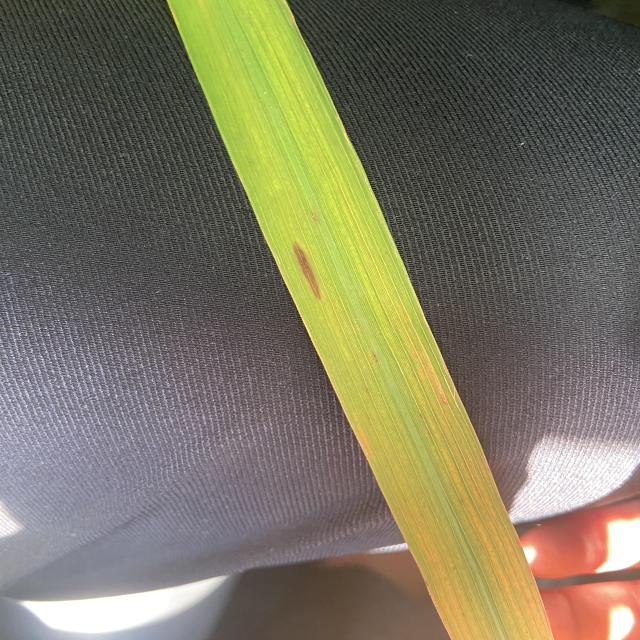Dom nau: (293, 242, 321, 300)
